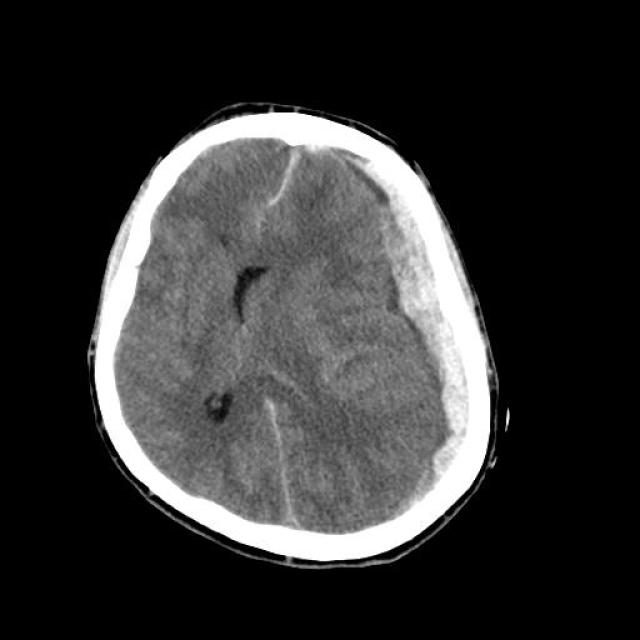Subdural: (327, 146, 522, 506)
